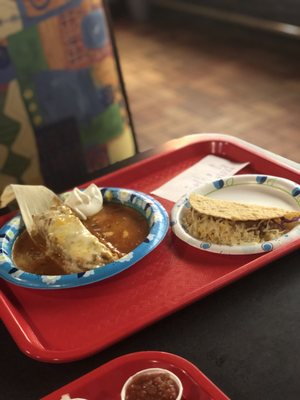sushi: (1, 184, 171, 292), (37, 351, 232, 400)
